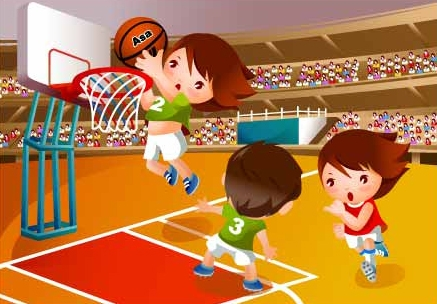ball: (113, 16, 168, 68)
